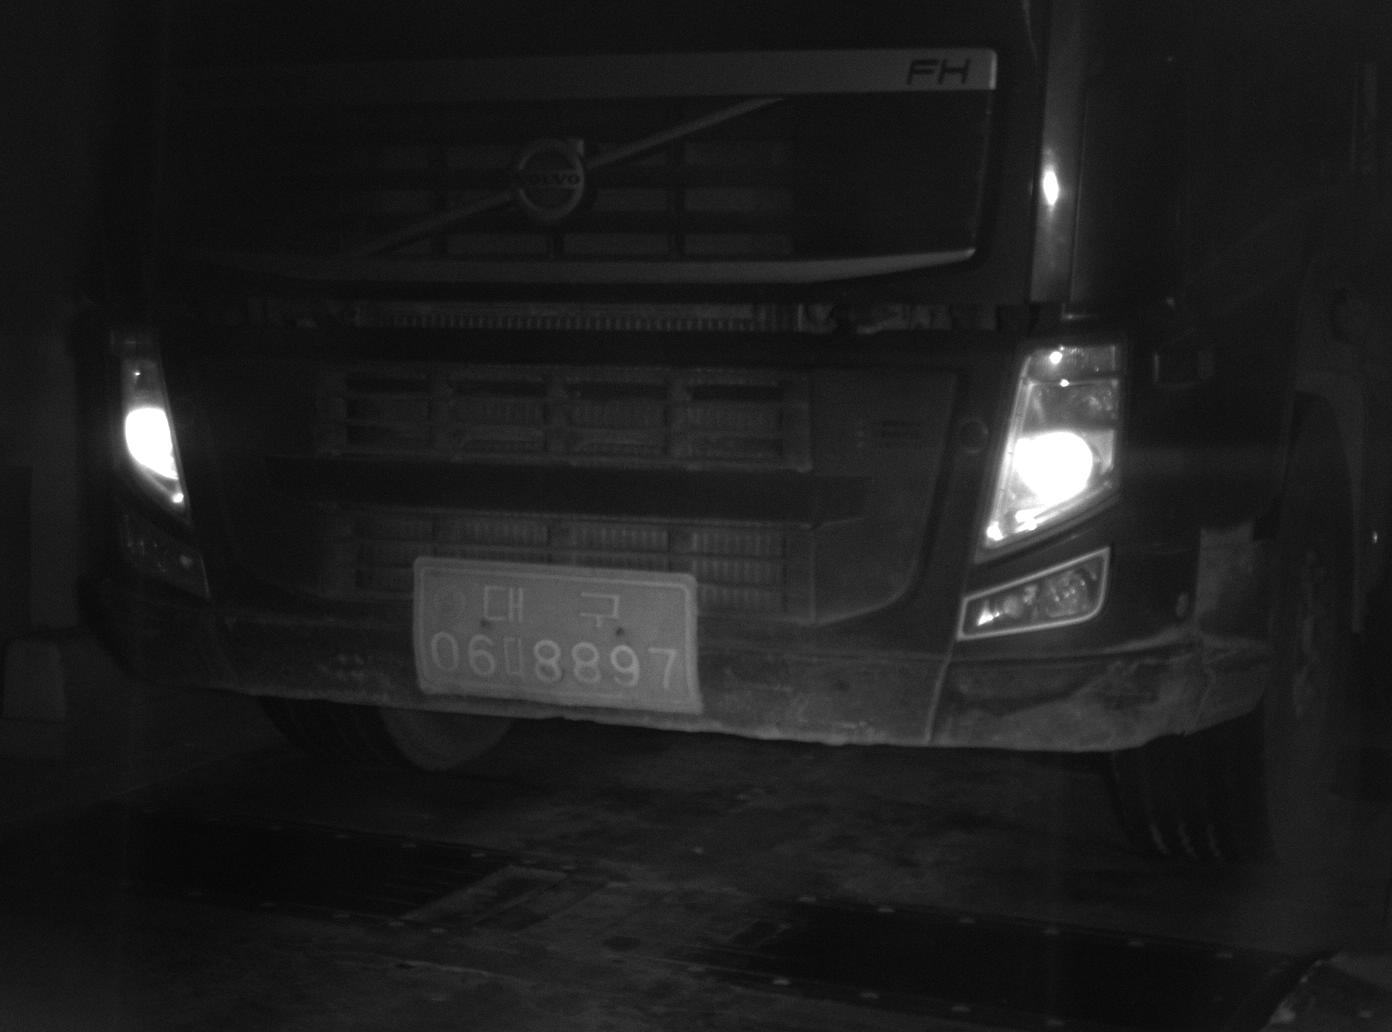car: (55, 1, 1392, 864)
plate: (410, 556, 702, 716)
